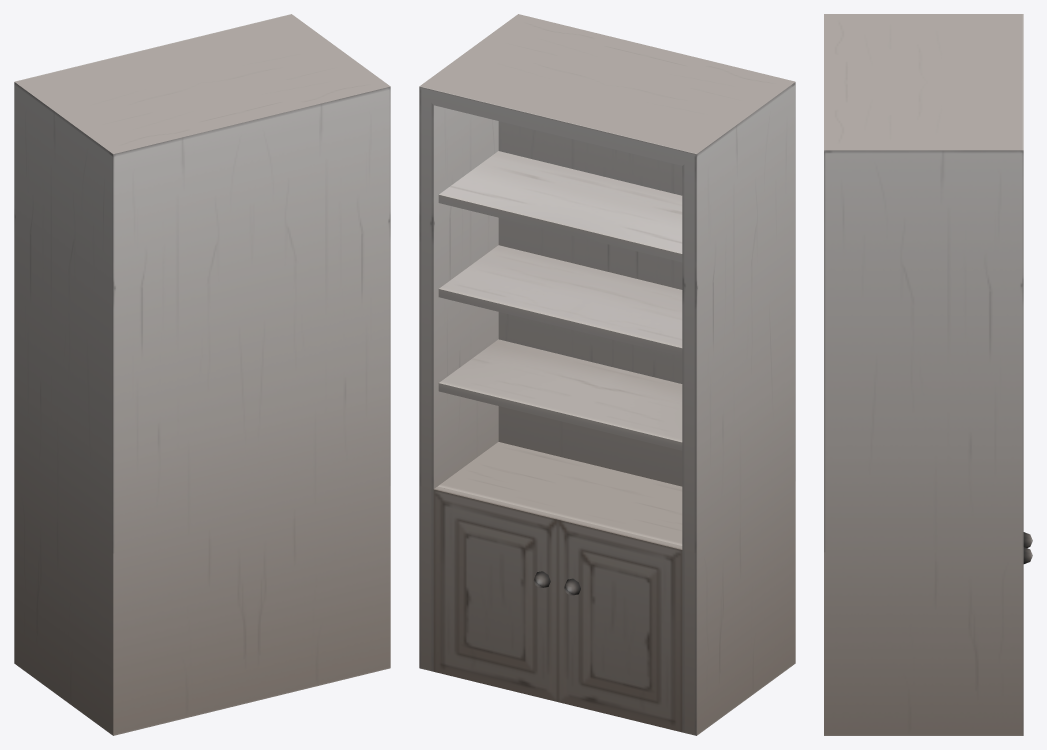
The model's file is FUR0110011.fbx.
3 renders of one model, left to right at view 1: azimuth 30°, elevation 25°; view 2: azimuth 150°, elevation 25°; view 3: azimuth 270°, elevation 25°, orthographic.
Parts seen in each view (by area): view 1: smFUR0110011; view 2: smFUR0110011; view 3: smFUR0110011.
Part boxes in pixels (x1,y1,x2,y2): smFUR0110011: (14,14,390,735); smFUR0110011: (419,14,795,735); smFUR0110011: (824,14,1032,735).
Size of the model in its own units: 107 by 214 by 69.36.
1 material, 1 textured.
